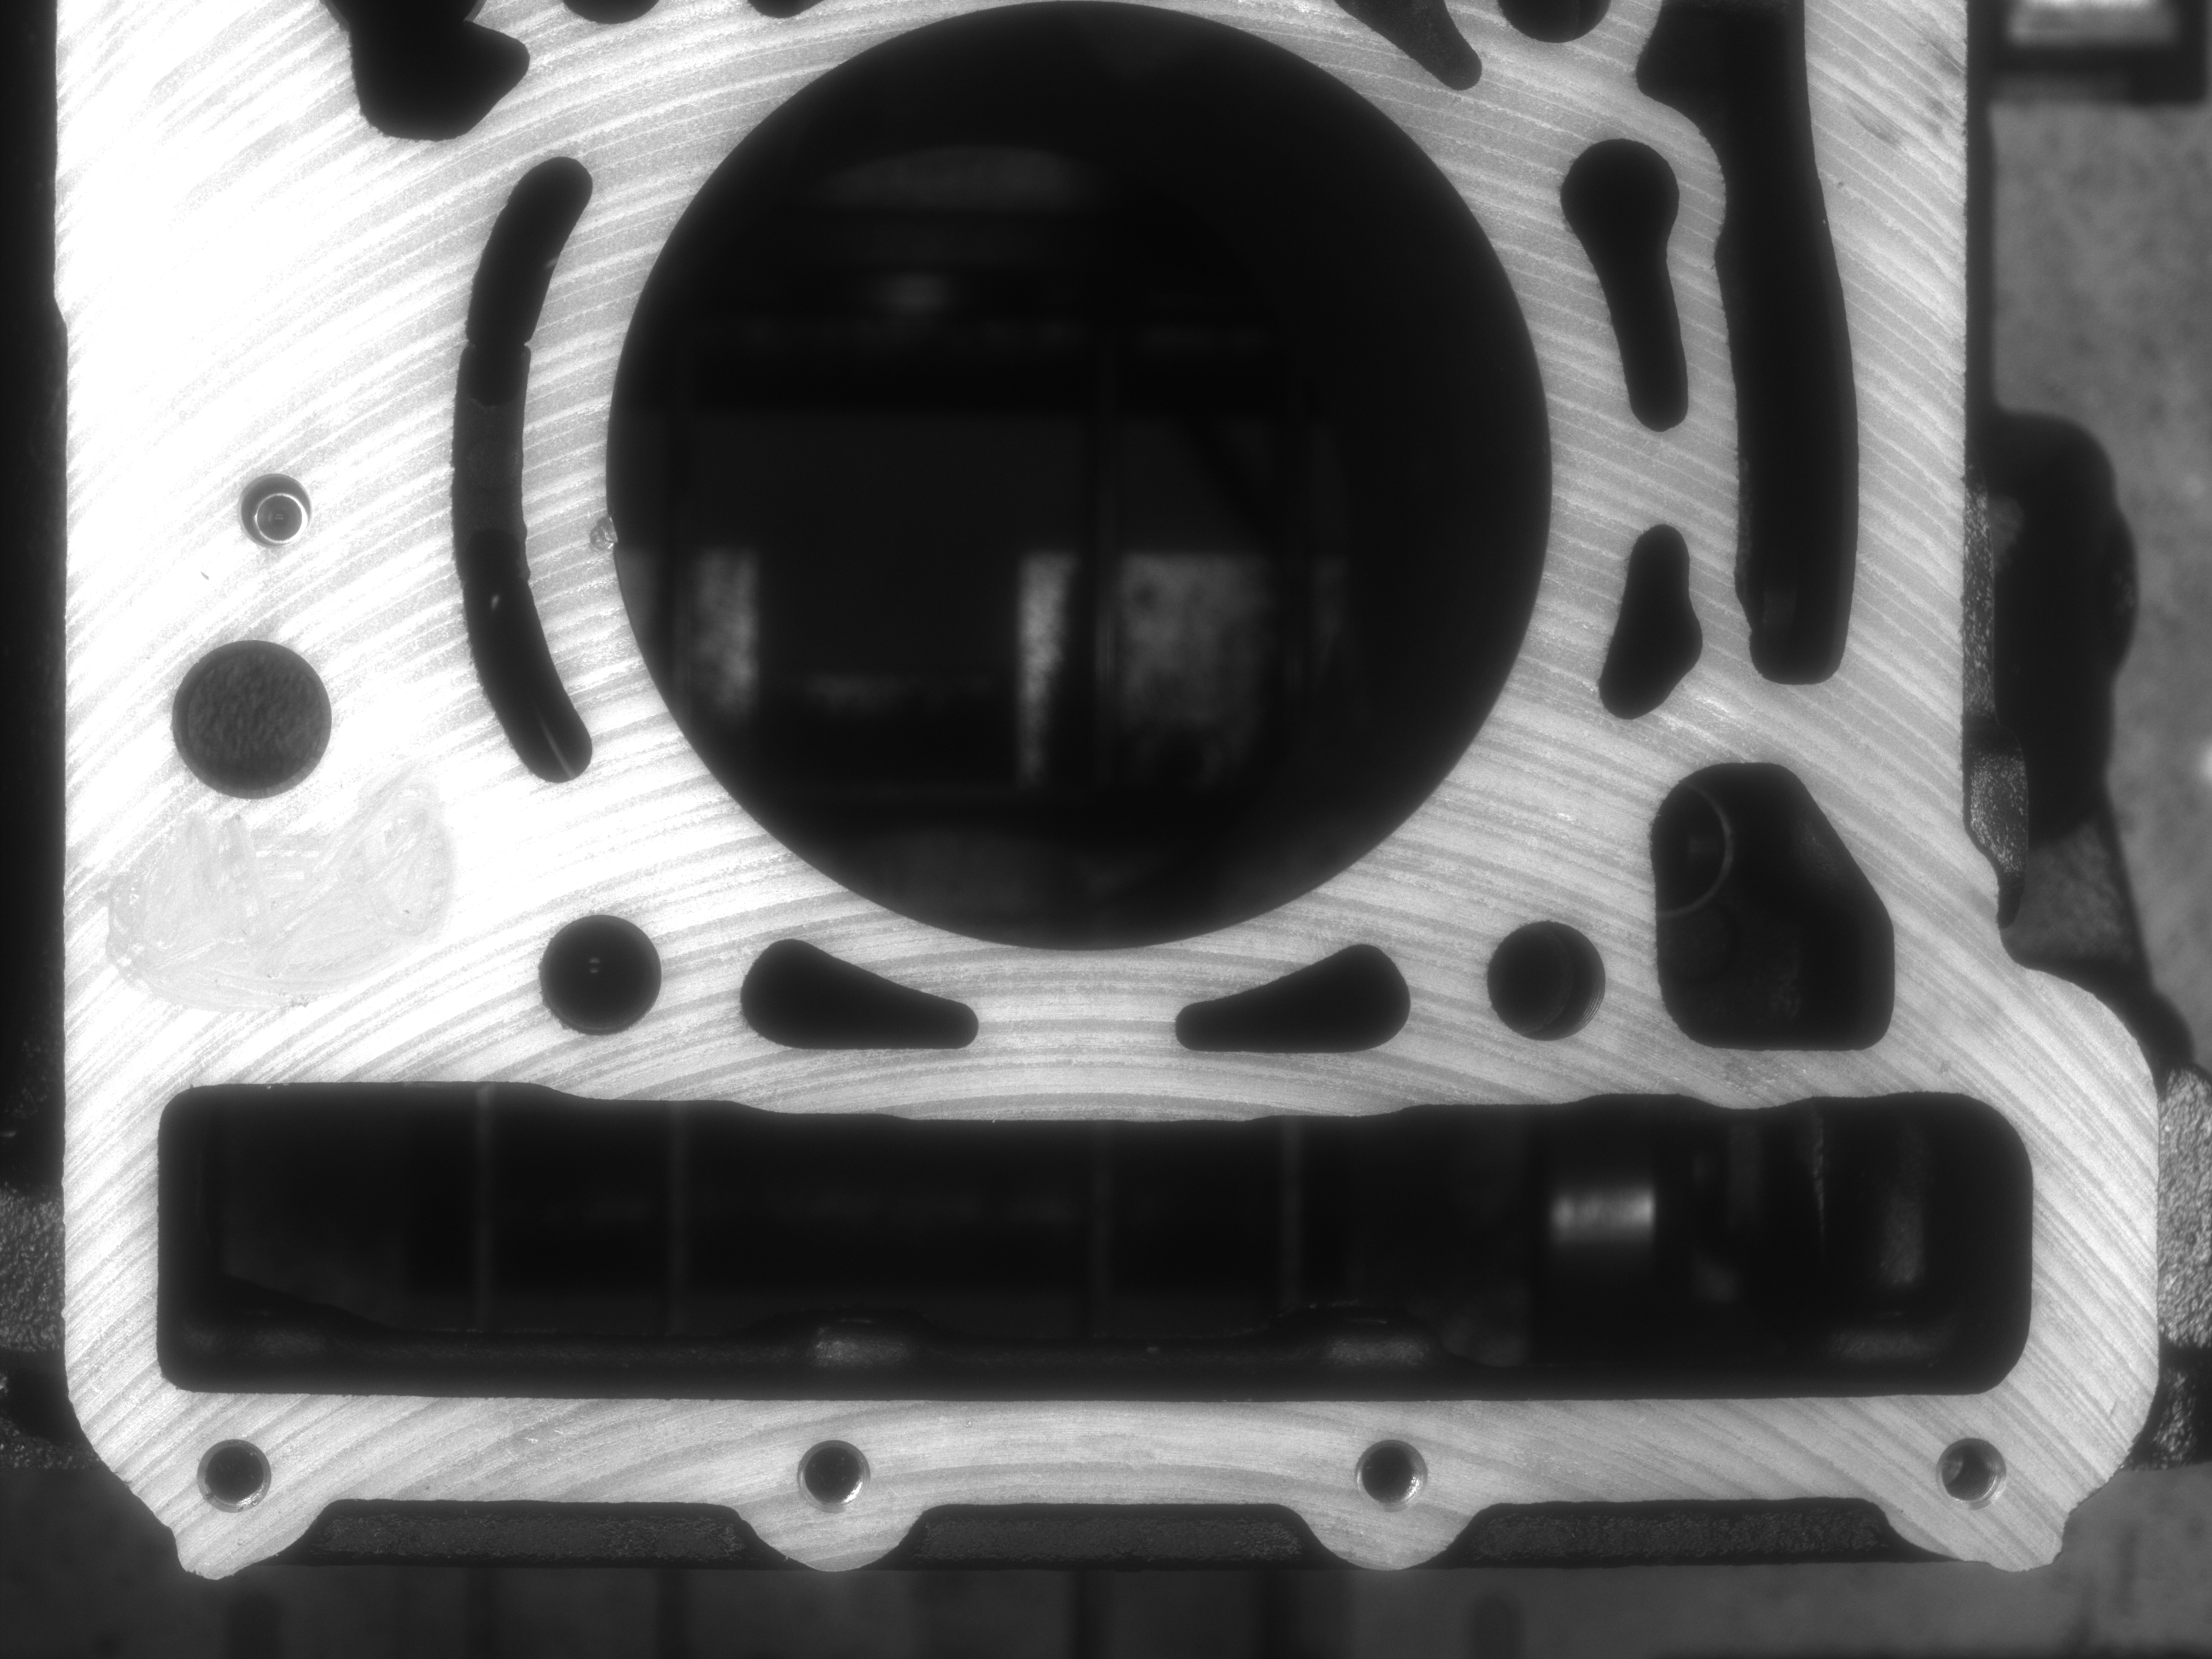dirty: (98, 784, 441, 1014)
sandhole: (580, 511, 618, 558)
